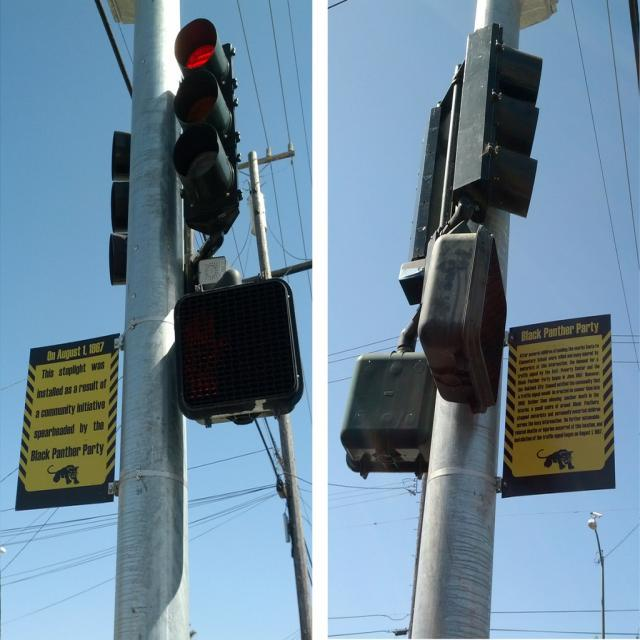traffic light: (174, 276, 305, 427), (453, 23, 544, 225), (416, 227, 508, 417), (172, 18, 243, 244), (339, 354, 437, 482), (108, 130, 131, 287)
